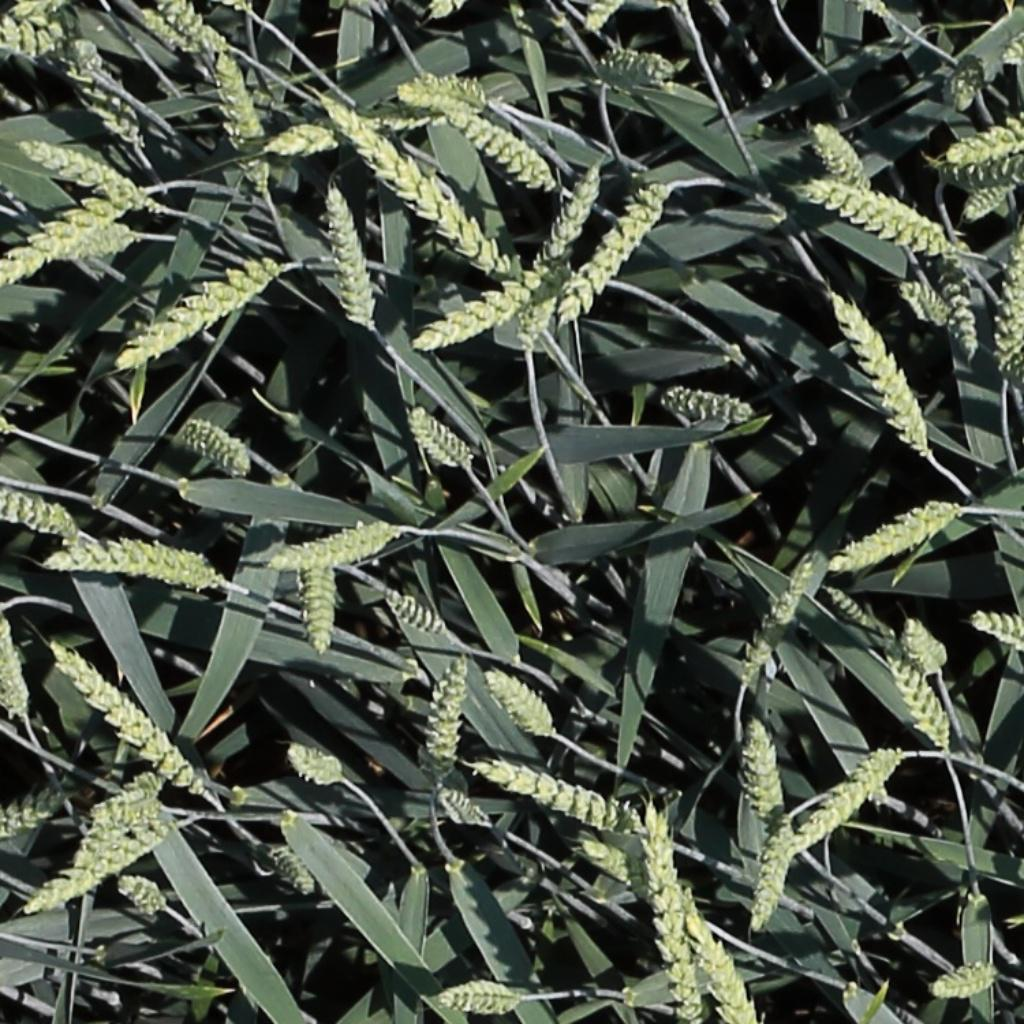0-0: (777, 634, 955, 870), (325, 79, 522, 291), (47, 640, 197, 791), (5, 811, 193, 913), (558, 177, 678, 336), (116, 256, 281, 370), (0, 181, 157, 295), (831, 288, 935, 453), (45, 526, 252, 605), (41, 33, 156, 174), (47, 638, 169, 752), (820, 495, 973, 579), (475, 761, 644, 834), (253, 106, 461, 162), (525, 155, 608, 294), (413, 259, 541, 349), (212, 43, 284, 202), (811, 180, 957, 255), (575, 833, 685, 923), (445, 102, 557, 189), (684, 903, 760, 1022), (19, 136, 150, 202), (324, 181, 376, 329), (585, 37, 690, 104), (759, 548, 826, 651), (750, 809, 801, 936), (650, 375, 764, 425), (427, 652, 473, 775), (273, 525, 398, 570), (658, 903, 705, 1021), (811, 114, 877, 196), (484, 669, 558, 741), (644, 798, 681, 921), (36, 215, 144, 256), (995, 241, 1024, 391), (409, 406, 475, 471), (180, 420, 251, 479), (439, 971, 529, 1016), (927, 952, 1007, 1002), (749, 718, 785, 827), (943, 260, 981, 360), (0, 486, 75, 535), (0, 801, 55, 866), (163, 1, 229, 55), (398, 69, 491, 107), (86, 794, 161, 839), (0, 611, 30, 723), (510, 285, 567, 343), (264, 845, 319, 902), (385, 591, 450, 637), (903, 614, 947, 679), (0, 1, 51, 57), (899, 277, 955, 327), (140, 9, 202, 54), (308, 559, 334, 664), (737, 633, 779, 697), (435, 785, 492, 832), (824, 584, 879, 630), (941, 56, 990, 106), (963, 176, 1017, 219), (951, 124, 1024, 154), (939, 155, 1019, 182), (286, 746, 344, 783), (114, 876, 167, 916), (72, 32, 110, 78), (969, 614, 1024, 641), (997, 22, 1024, 77), (581, 0, 622, 35), (426, 0, 480, 26), (861, 0, 897, 21)
